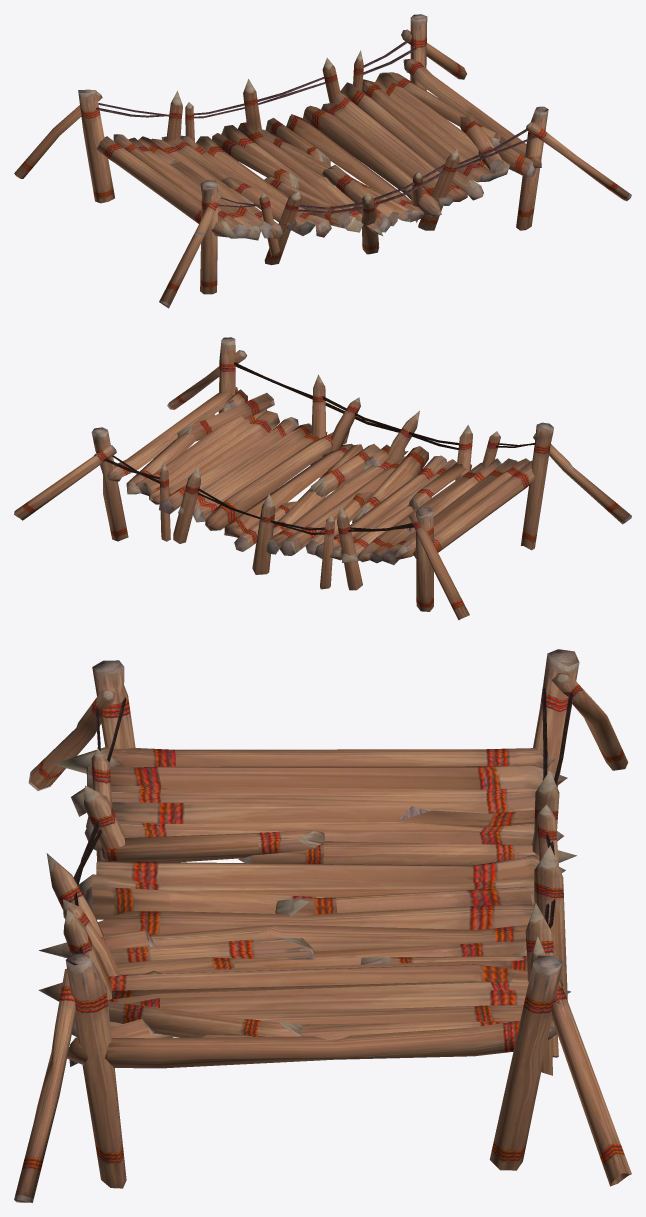
The model's file is daliang_field_b_s06.fbx.
The picture shows the model from 3 angles, top to bottom: view 1: azimuth 30°, elevation 25°; view 2: azimuth 150°, elevation 25°; view 3: azimuth 270°, elevation 25°; orthographic projection. The views are drawn at different scales.
Visible parts, largest first — view 1: daliang_field_b_s06; view 2: daliang_field_b_s06; view 3: daliang_field_b_s06.
Part boxes in pixels (x1,y1,x2,y2): daliang_field_b_s06: [14, 14, 631, 308]; daliang_field_b_s06: [14, 337, 631, 620]; daliang_field_b_s06: [14, 649, 631, 1202].
Bounding box in the file's own units: 1885 × 492 × 1155.
